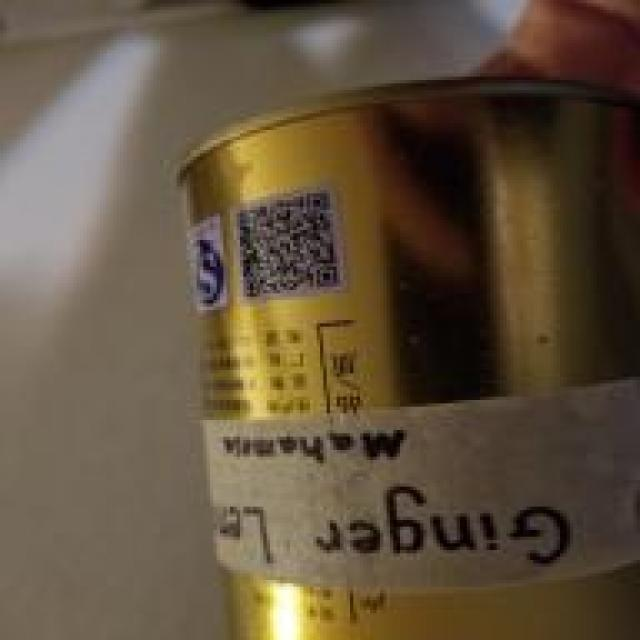qr_code: (236, 192, 340, 297)
